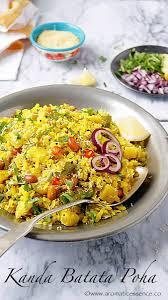poha: (0, 89, 158, 237)
